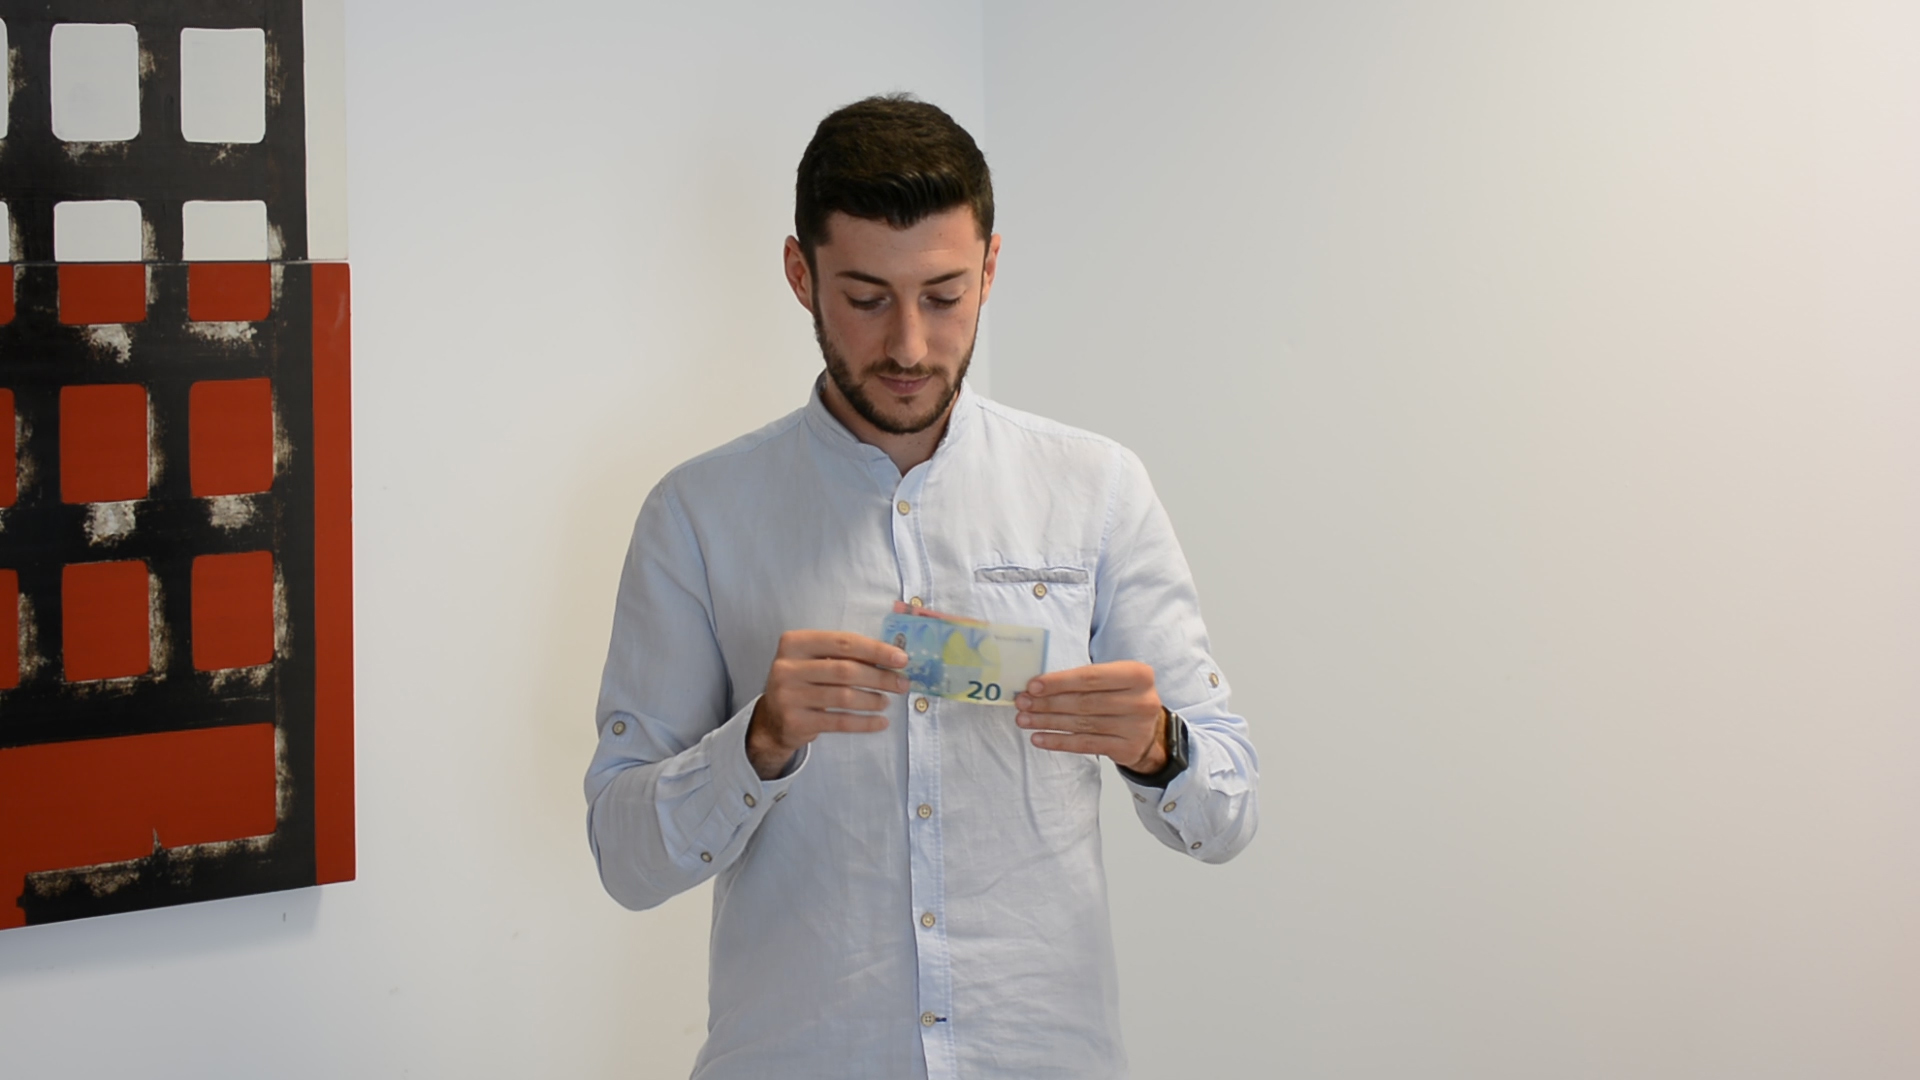billete: (876, 600, 1054, 705)
